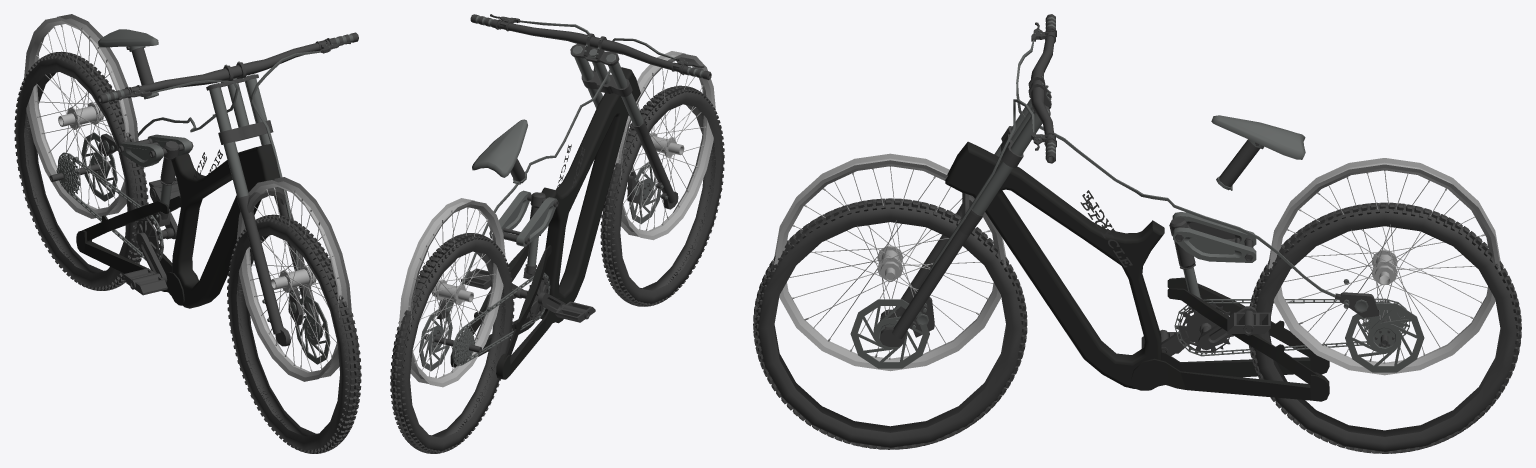
Rendered from bike_final.glb.
The picture shows the model from 3 angles, left to right: view 1: azimuth 30°, elevation 25°; view 2: azimuth 150°, elevation 25°; view 3: azimuth 270°, elevation 25°; orthographic projection. The views are drawn at different scales.
Parts seen in each view (by area): view 1: Wheel_B_Textures_0, Wheel_B_Mat Wheel_0, Body_Mat Body_0; view 2: Wheel_B_Textures_0, Wheel_B_Mat Wheel_0, Body_Mat Body_0; view 3: Wheel_B_Textures_0, Body_Mat Body_0, Wheel_B_Mat Wheel_0.
Boxes of the visible parts, <box> form: Wheel_B_Textures_0: <box>14,29,361,453</box>; Wheel_B_Mat Wheel_0: <box>24,14,351,381</box>; Body_Mat Body_0: <box>76,144,279,308</box>; Wheel_B_Textures_0: <box>390,14,724,453</box>; Wheel_B_Mat Wheel_0: <box>399,51,715,387</box>; Body_Mat Body_0: <box>450,67,640,379</box>; Wheel_B_Textures_0: <box>753,14,1521,453</box>; Body_Mat Body_0: <box>945,141,1329,401</box>; Wheel_B_Mat Wheel_0: <box>774,153,1500,375</box>.
Bounding box in the file's own units: 19174 × 23586 × 44167.
3 materials, 1 textured.
